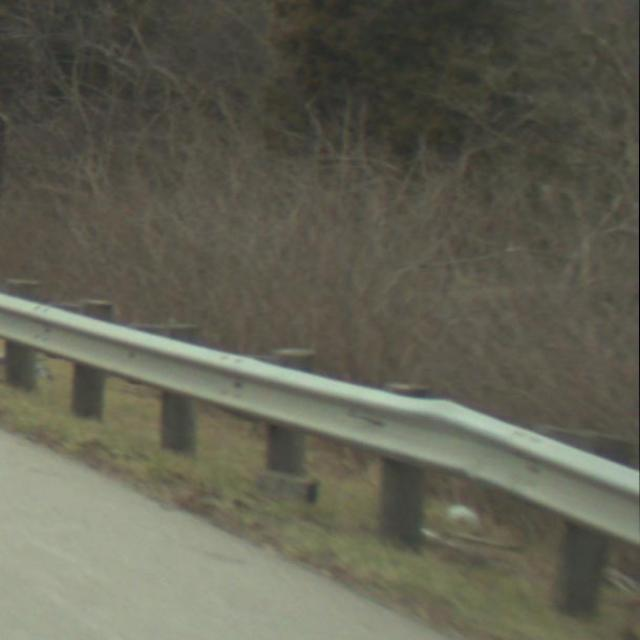Guard rail: (0, 260, 640, 629)
